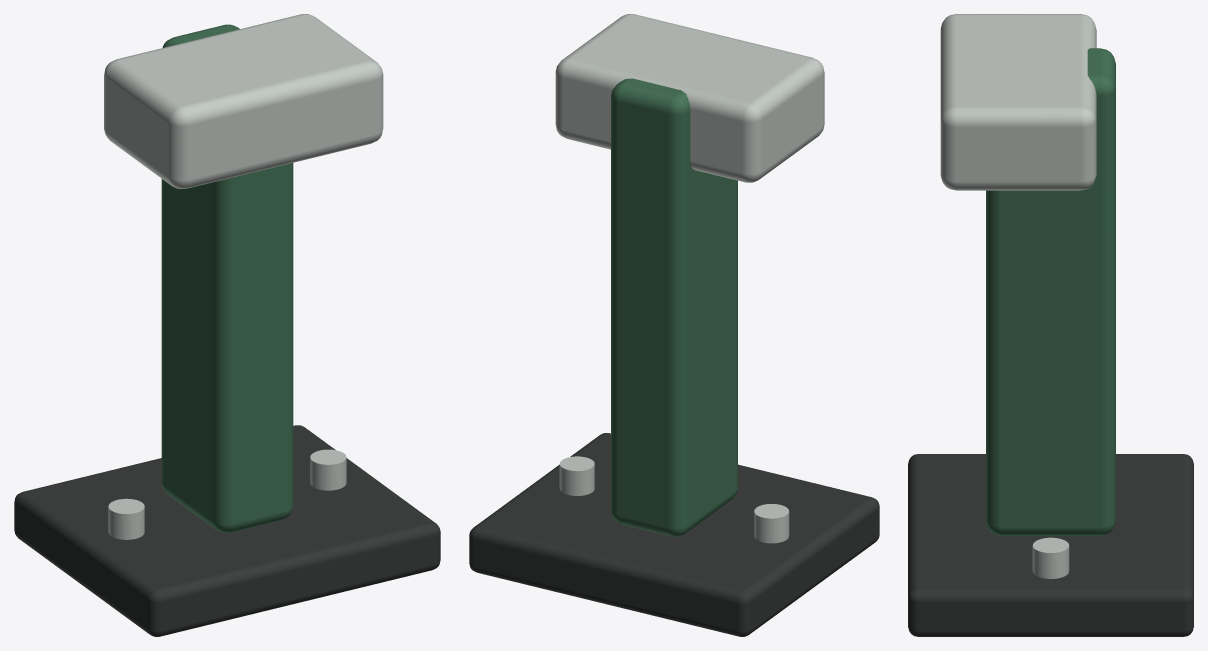
The model's file is sawmill-and-timber-yard-deck-log-stop-187ad9de__31159.glb.
3 views of the same model, side by side, from view 1: azimuth 30°, elevation 25°; view 2: azimuth 150°, elevation 25°; view 3: azimuth 270°, elevation 25° (orthographic). The views are drawn at different scales.
Parts seen in each view (by area): view 1: deck-log-stop; view 2: deck-log-stop; view 3: deck-log-stop.
Part boxes in pixels (x1,y1,x2,y2): deck-log-stop: (14, 14, 440, 636); deck-log-stop: (469, 14, 879, 636); deck-log-stop: (908, 14, 1193, 636).
Bounding box in the file's own units: 0.26 × 0.4312 × 0.22.
